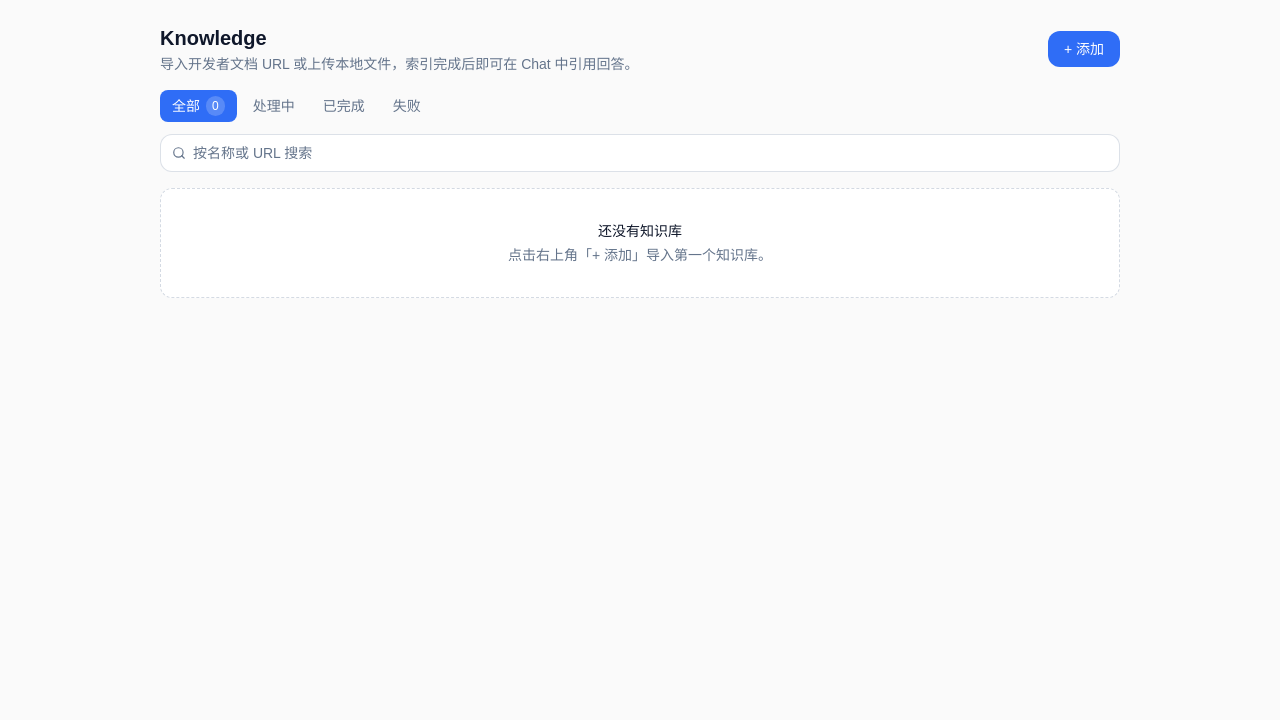
Test case: KnowledgePage › opens and closes the import dialog
Expected: the text "还没有知识库" is shown, [598,223,682,239]
Expected: the text "添加知识库" is not shown
Click the button "+ 添加": x=1084, y=49 [1048,31,1120,67]
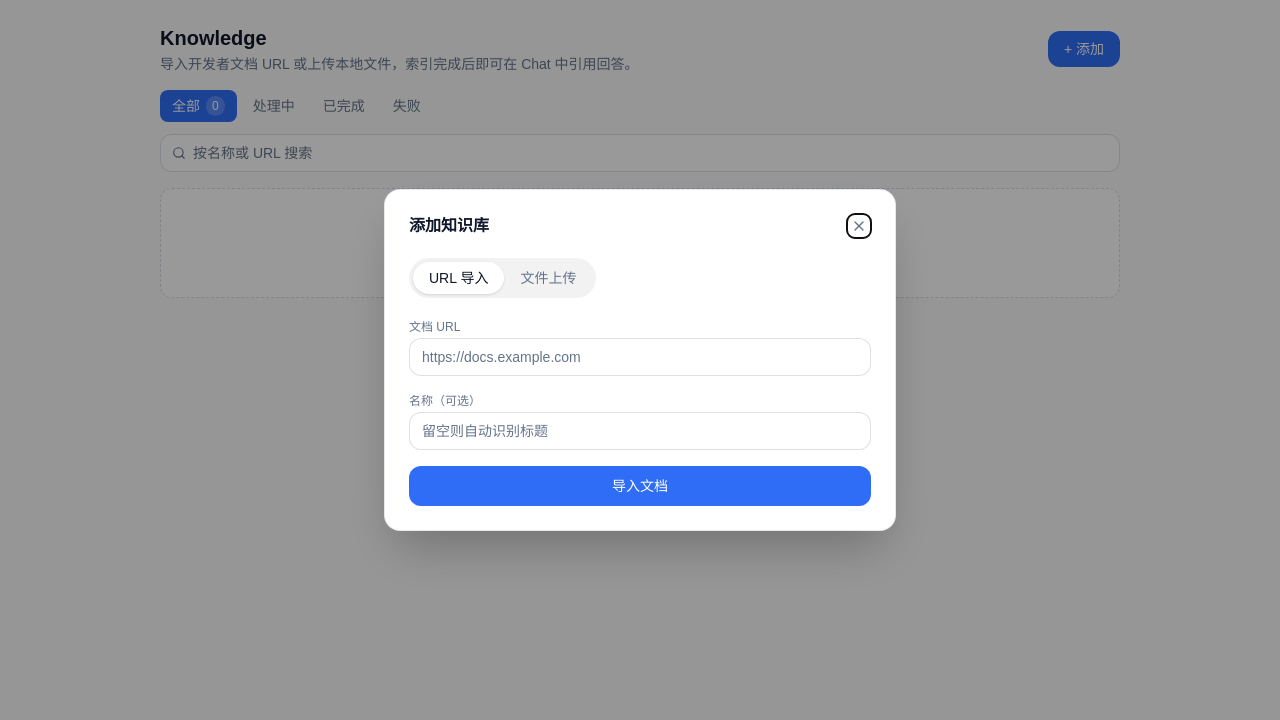
Expected: the heading "添加知识库" is shown, [409,214,489,238]
Click the button named "关闭": x=859, y=226 [847,214,871,238]
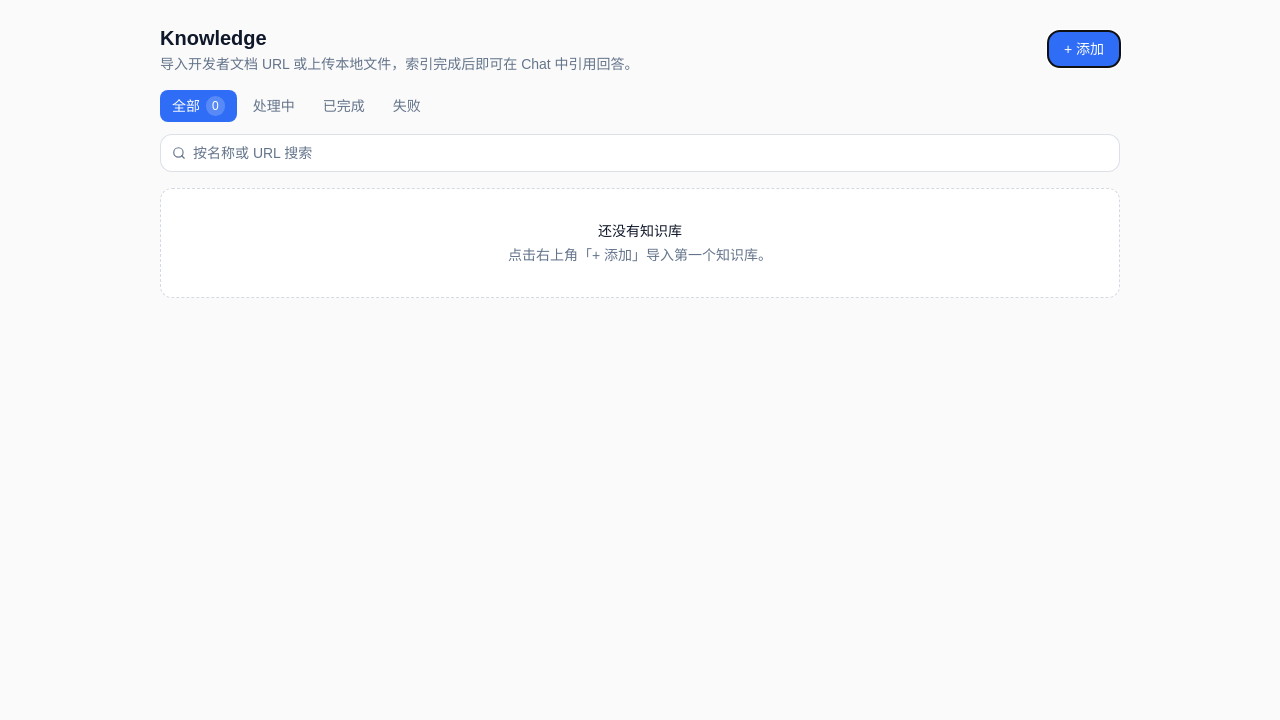
Expected: the heading "添加知识库" is gone
